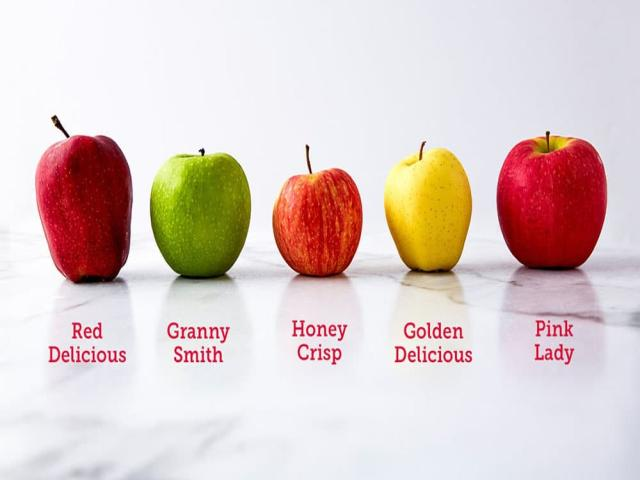apple: (495, 133, 605, 274), (149, 153, 251, 278), (273, 167, 362, 276)
